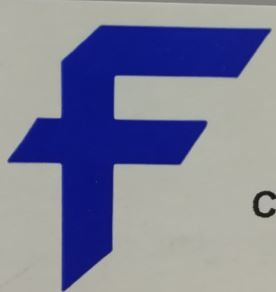Fisher: (7, 26, 273, 291)
